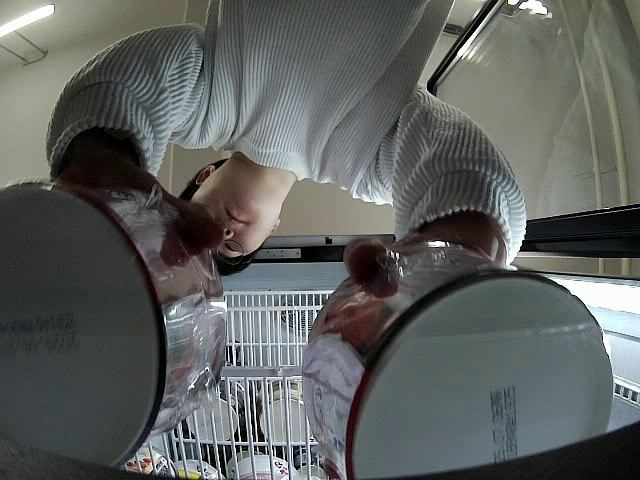00_hand: (344, 228, 510, 300)
01_shinRamen_L: (304, 243, 612, 480), (0, 183, 231, 480)
